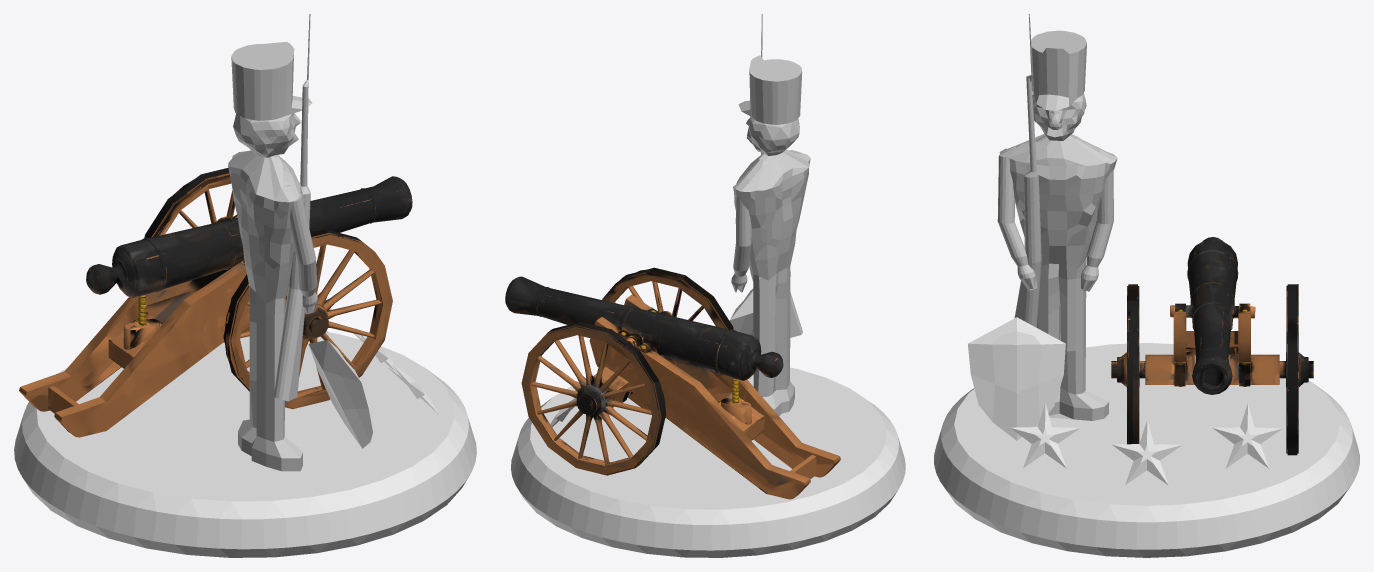
The model's file is Artillery.fbx.
3 views of the same model, side by side, from view 1: azimuth 30°, elevation 25°; view 2: azimuth 150°, elevation 25°; view 3: azimuth 270°, elevation 25° (orthographic). The views are drawn at different scales.
Visible parts, largest first — view 1: Base, Unit2, Unit1, Shield; view 2: Base, Unit2, Unit1, Shield; view 3: Base, Unit1, Unit2, Shield, Star2, Star3, Star1.
Part boxes in pixels (x1,y1,x2,y2): Base: (14,332,476,557); Unit2: (19,168,412,437); Unit1: (228,14,317,471); Shield: (308,340,372,448); Base: (511,367,905,557); Unit2: (505,267,840,499); Unit1: (731,14,810,415); Shield: (729,288,753,335); Base: (934,343,1359,557); Unit1: (997,14,1117,420); Unit2: (1111,237,1313,455); Shield: (968,317,1065,440); Star2: (1010,403,1080,468); Star3: (1212,403,1282,468); Star1: (1112,420,1181,485).
Size of the model in its own units: 40.7 by 48.15 by 40.7.
